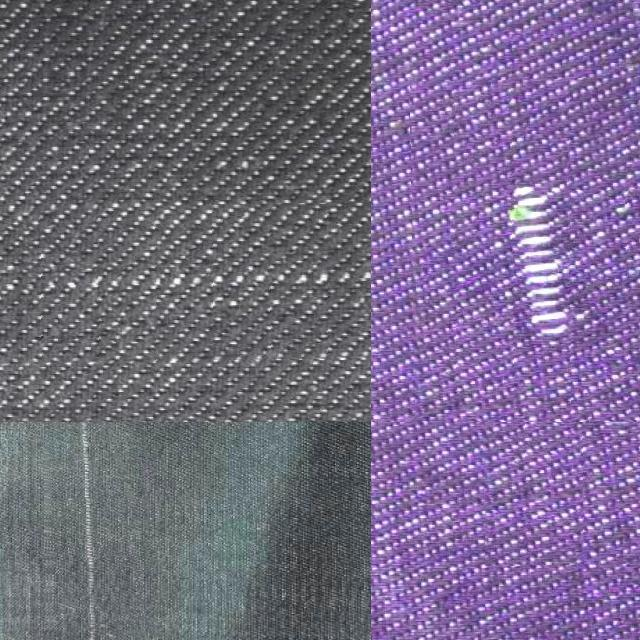Thread_other: (411, 77, 640, 422), (0, 202, 371, 363), (41, 422, 148, 640), (480, 422, 640, 564)
